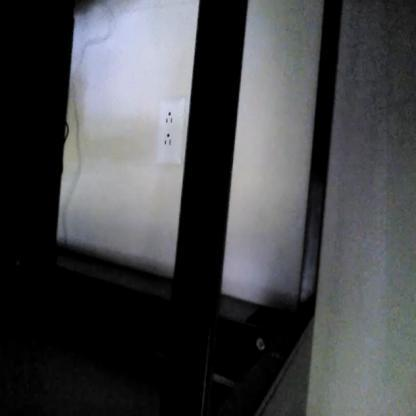OUTLET: (153, 96, 186, 164)
